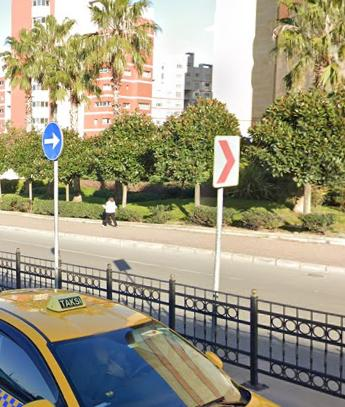turnright: (39, 117, 66, 161)
